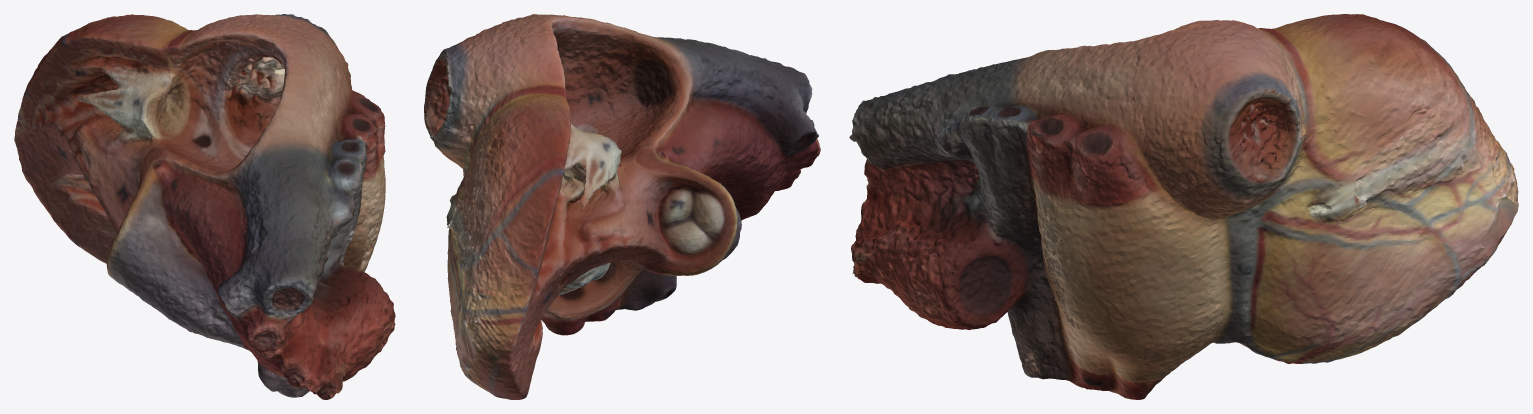
The model's file is heart-back.obj.
3 views of the same model, side by side, from view 1: azimuth 30°, elevation 25°; view 2: azimuth 150°, elevation 25°; view 3: azimuth 270°, elevation 25° (orthographic). The views are drawn at different scales.
Bounding box in the file's own units: 11.98 × 13.63 × 22.48.
Materials: 1 (1 with a texture image).
